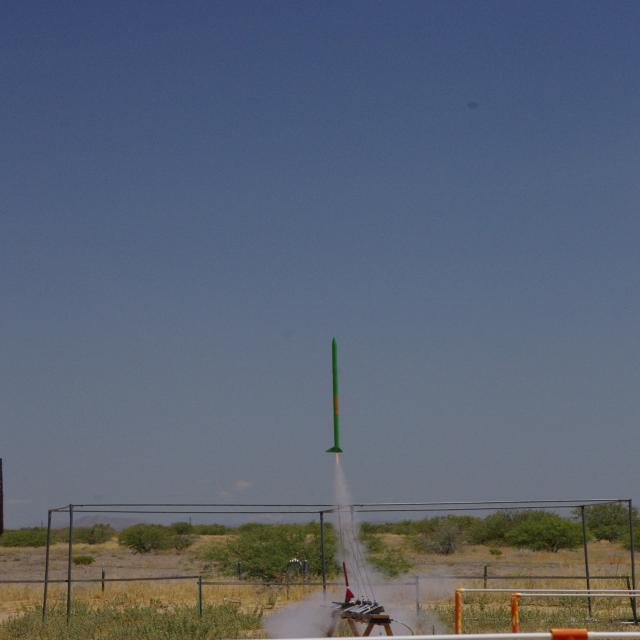Rocket: (325, 336, 343, 453), (342, 561, 355, 601)
